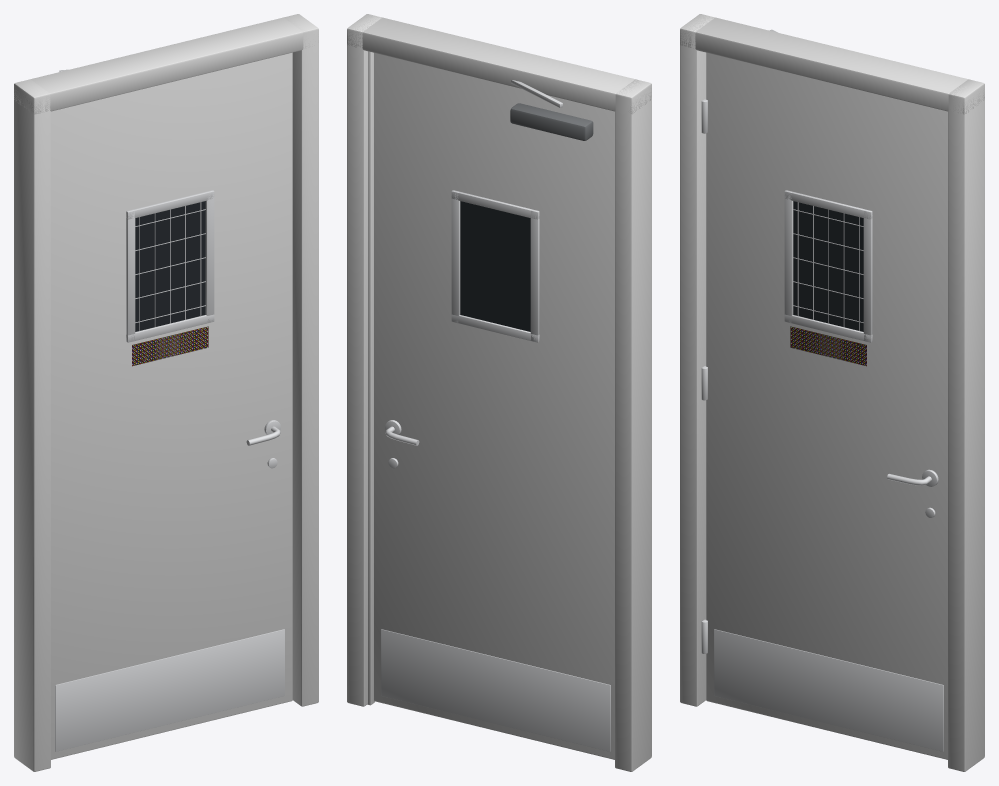
The model's file is StaffDoor.fbx.
The picture shows the model from 3 angles, left to right: view 1: azimuth 30°, elevation 25°; view 2: azimuth 150°, elevation 25°; view 3: azimuth 330°, elevation 25°; orthographic projection.
Parts seen in each view (by area): view 1: DoorLeaf, DoorFrame; view 2: DoorLeaf, DoorFrame; view 3: DoorLeaf, DoorFrame.
Boxes of the visible parts, <box> form: DoorLeaf: <box>51,52,292,759</box>; DoorFrame: <box>14,14,318,771</box>; DoorLeaf: <box>374,53,614,759</box>; DoorFrame: <box>347,14,651,771</box>; DoorLeaf: <box>701,29,947,759</box>; DoorFrame: <box>680,14,984,771</box>.
Bounding box in the file's own units: 1.12 × 2.53 × 0.2552.
